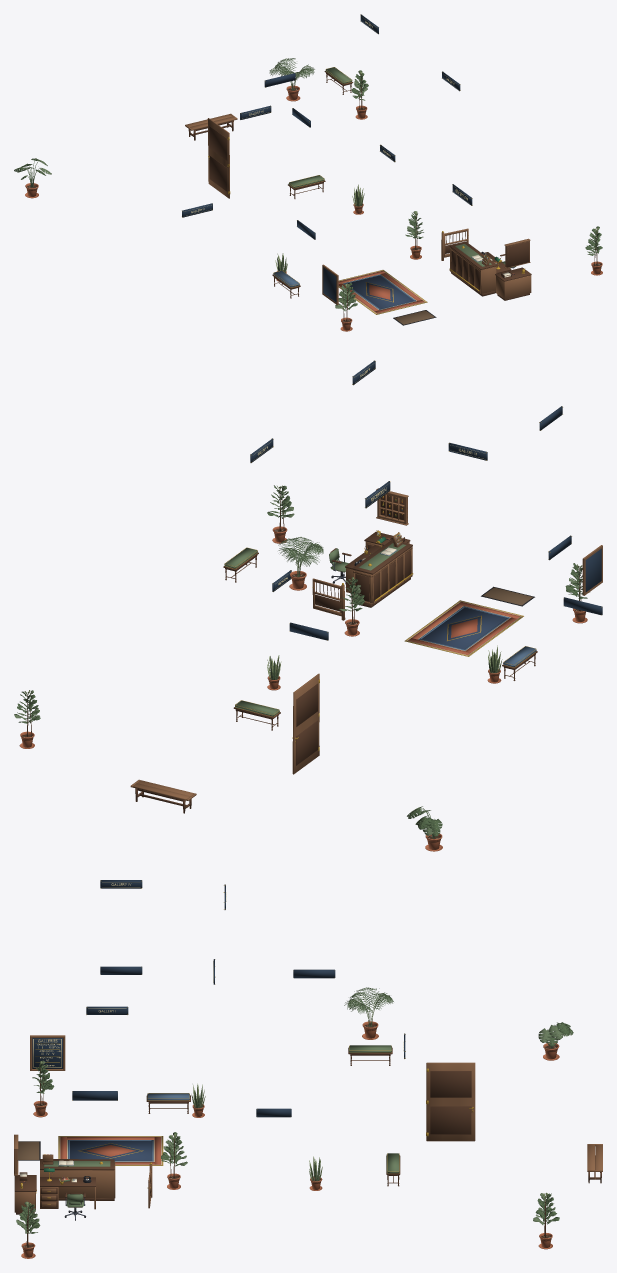
File: Museum_Int_Furniture.fbx
The picture shows the model from 3 angles, top to bottom: view 1: azimuth 30°, elevation 25°; view 2: azimuth 150°, elevation 25°; view 3: azimuth 270°, elevation 25°; orthographic projection. The views are drawn at different scales.
Visible parts, largest first — view 1: Reception_Desk, Hall_Rug, Door_GalleryVII, Reception_Credenza, Landing_Plant, Reception_KeyCabinet, Hall_Plant_0, Hall_Directory, GalleryVII_Bench, GalleryVII_Plant_0, Reception_Plant_0, GalleryVII_Plant_1 (+1 smaller); view 2: Reception_Desk, Hall_Rug, Door_GalleryVII, Landing_Plant, GalleryVII_Bench, Reception_KeyCabinet, Hall_Directory, GalleryVII_Plant_0, GalleryVII_Plant_1, Reception_Plant_0, Hall_Plant_1, StairHall_Bench; view 3: Door_GalleryVII, Reception_Desk, Hall_Rug, Hall_Directory, Landing_Plant, Reception_Credenza, Hall_Plant_1, GalleryVII_Plant_0, GalleryVII_Plant_1, Reception_Plant_0, Hall_Plant_0, Landing_Bench (+2 smaller).
Boxes of the visible parts, left/top/right/bottom form: Reception_Desk: left=441, top=228, right=511, bottom=296; Hall_Rug: left=338, top=270, right=427, bottom=314; Door_GalleryVII: left=208, top=118, right=230, bottom=198; Reception_Credenza: left=495, top=267, right=531, bottom=300; Landing_Plant: left=269, top=58, right=314, bottom=101; Reception_KeyCabinet: left=504, top=238, right=530, bottom=268; Hall_Plant_0: left=335, top=282, right=357, bottom=331; Hall_Directory: left=322, top=264, right=338, bottom=305; GalleryVII_Bench: left=185, top=113, right=237, bottom=140; GalleryVII_Plant_0: left=14, top=158, right=51, bottom=198; Reception_Plant_0: left=585, top=226, right=602, bottom=275; GalleryVII_Plant_1: left=351, top=70, right=368, bottom=119; Reception_Desk: left=312, top=532, right=413, bottom=620; Hall_Rug: left=404, top=600, right=523, bottom=656; Door_GalleryVII: left=292, top=673, right=319, bottom=774; Landing_Plant: left=278, top=537, right=323, bottom=590; GalleryVII_Bench: left=130, top=779, right=196, bottom=813; Reception_KeyCabinet: left=376, top=488, right=408, bottom=525; Hall_Directory: left=582, top=545, right=602, bottom=595; GalleryVII_Plant_0: left=407, top=806, right=442, bottom=851; GalleryVII_Plant_1: left=14, top=690, right=40, bottom=748; Reception_Plant_0: left=267, top=485, right=294, bottom=543; Hall_Plant_1: left=338, top=577, right=364, bottom=636; StairHall_Bench: left=233, top=700, right=280, bottom=730; Door_GalleryVII: left=426, top=1062, right=475, bottom=1141; Reception_Desk: left=40, top=1154, right=152, bottom=1209; Hall_Rug: left=58, top=1136, right=163, bottom=1165; Hall_Directory: left=30, top=1035, right=65, bottom=1070; Landing_Plant: left=344, top=987, right=393, bottom=1039; Reception_Credenza: left=14, top=1172, right=36, bottom=1214; Hall_Plant_1: left=161, top=1132, right=187, bottom=1189; GalleryVII_Plant_0: left=538, top=1022, right=573, bottom=1060; GalleryVII_Plant_1: left=533, top=1192, right=559, bottom=1249; Reception_Plant_0: left=16, top=1201, right=40, bottom=1258; Hall_Plant_0: left=32, top=1060, right=54, bottom=1117; Landing_Bench: left=348, top=1045, right=392, bottom=1065.
Size of the model in its own units: 14.14 by 7.18 by 16.78.
